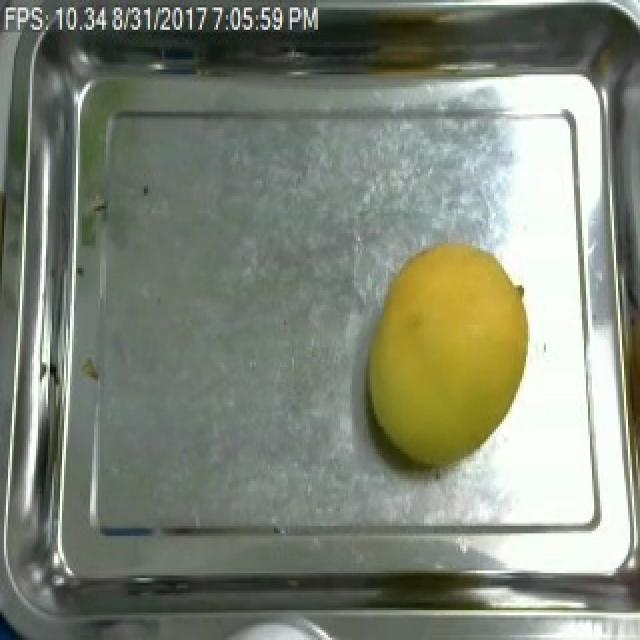fruit: (356, 233, 540, 481)
